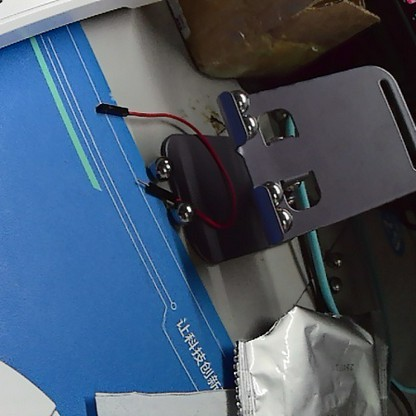ironball: (248, 170, 288, 206), (217, 80, 251, 112), (167, 196, 198, 230), (142, 149, 170, 183), (232, 114, 263, 140), (318, 272, 345, 298), (272, 209, 296, 231), (325, 249, 345, 268)
